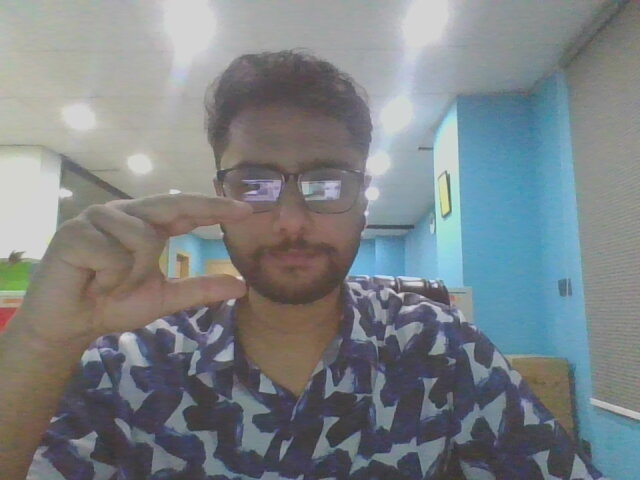no: (15, 189, 261, 385)
